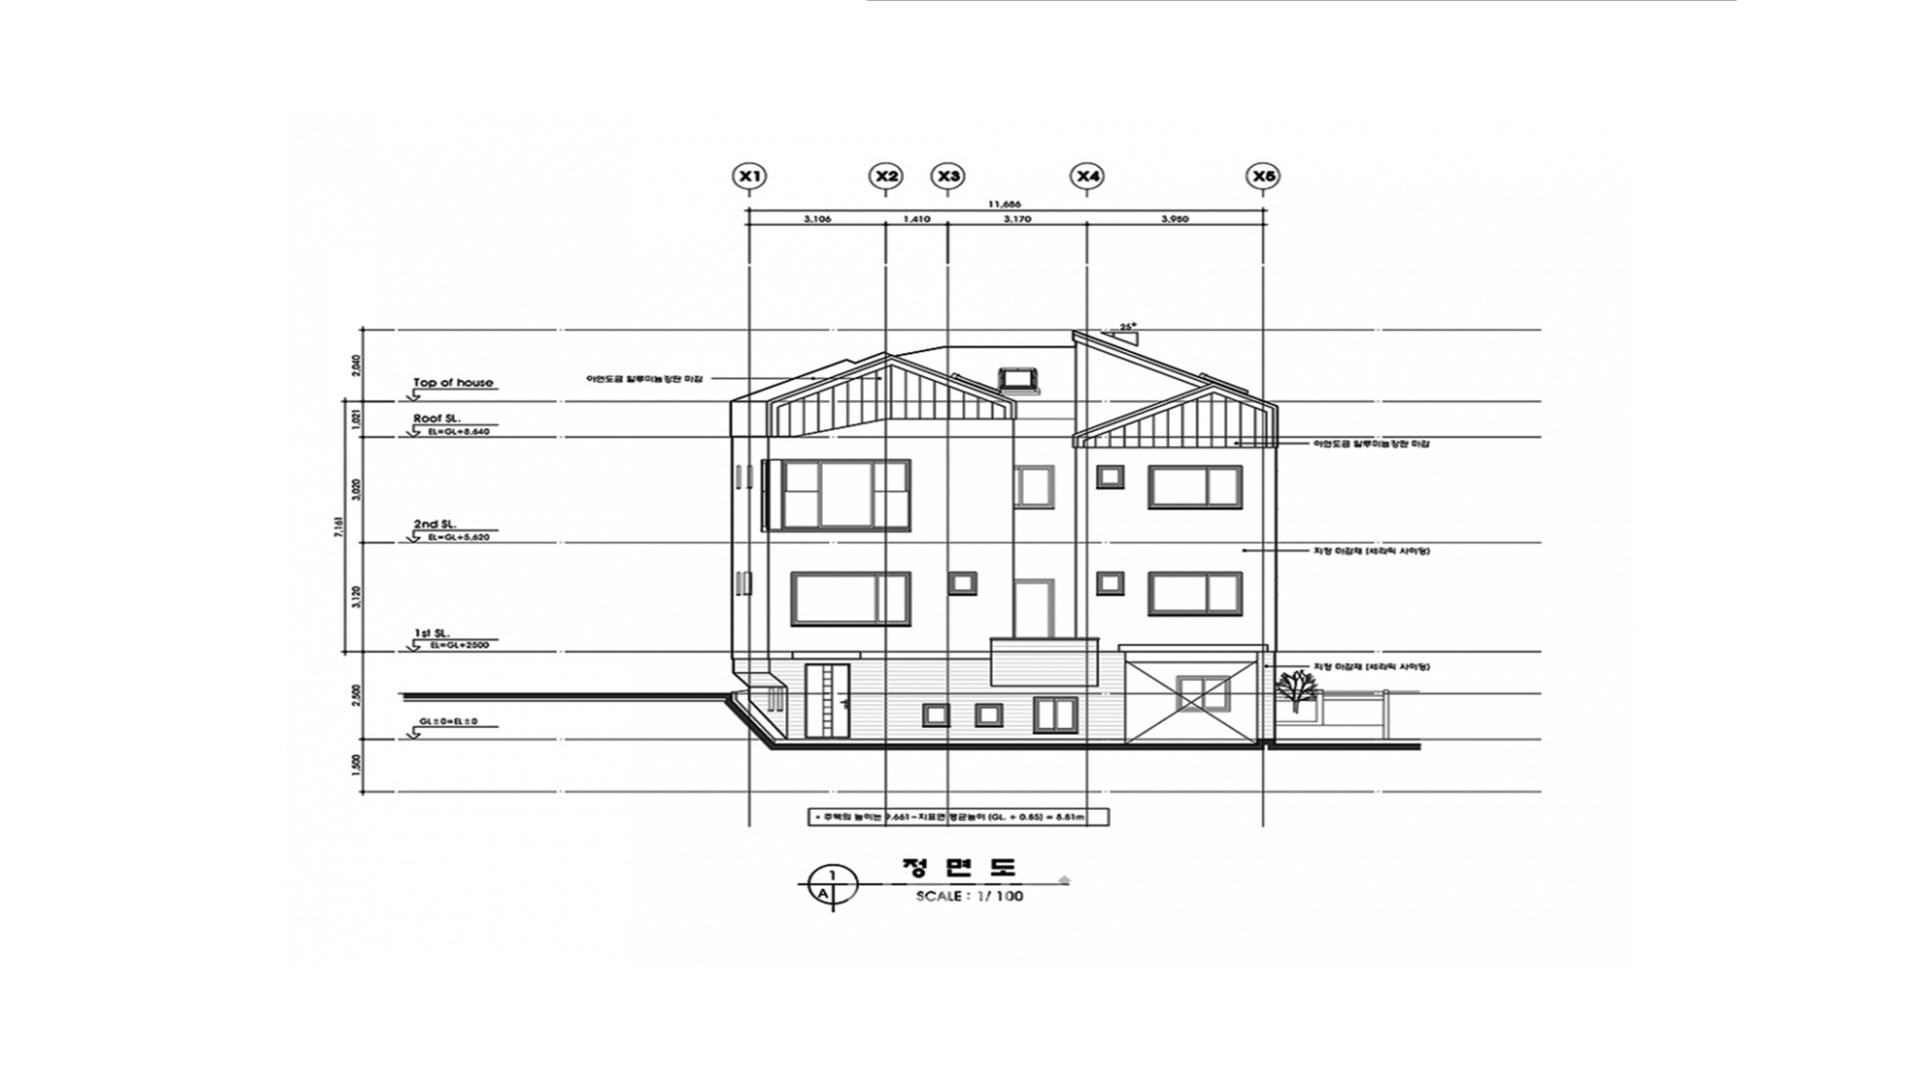door: (805, 663, 851, 739), (1014, 579, 1055, 638)
wall: (726, 331, 1277, 750)
window: (781, 459, 911, 533), (790, 572, 911, 627), (1147, 571, 1243, 617), (1148, 465, 1243, 510), (1175, 675, 1231, 712), (1012, 465, 1054, 509), (1033, 697, 1078, 734), (999, 367, 1037, 389), (922, 703, 950, 728), (975, 703, 1003, 728), (1096, 465, 1124, 489), (949, 572, 977, 596), (1097, 572, 1124, 596), (744, 572, 752, 596), (736, 465, 741, 489), (736, 572, 741, 596), (769, 687, 774, 711), (748, 465, 753, 488), (778, 687, 782, 711)
